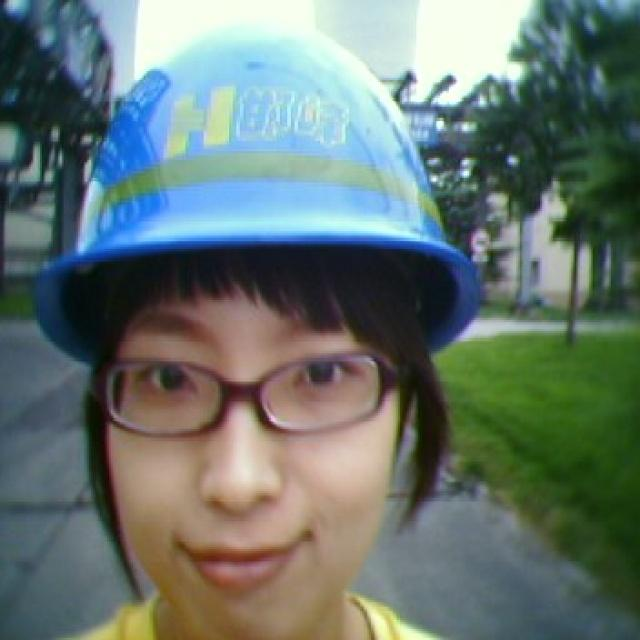helmet: (30, 39, 479, 640)
